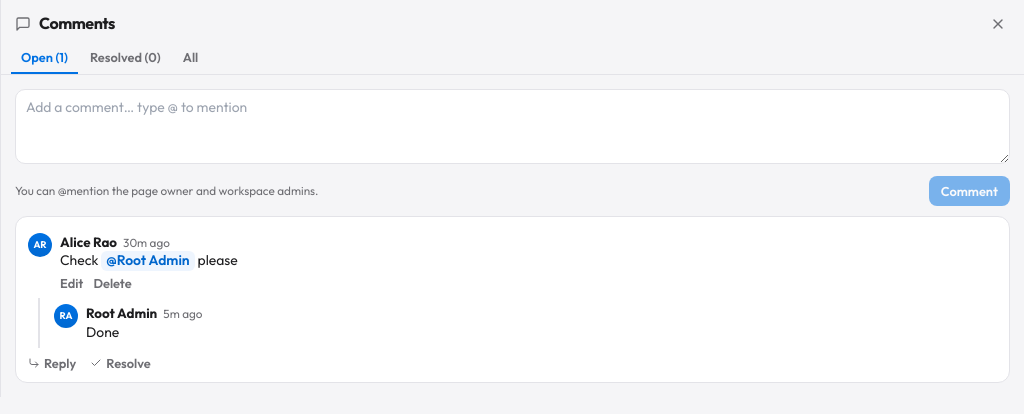
CommentsPanel › resolves a thread
Click the button "Resolve" at (120, 363), box [90,354,151,372]
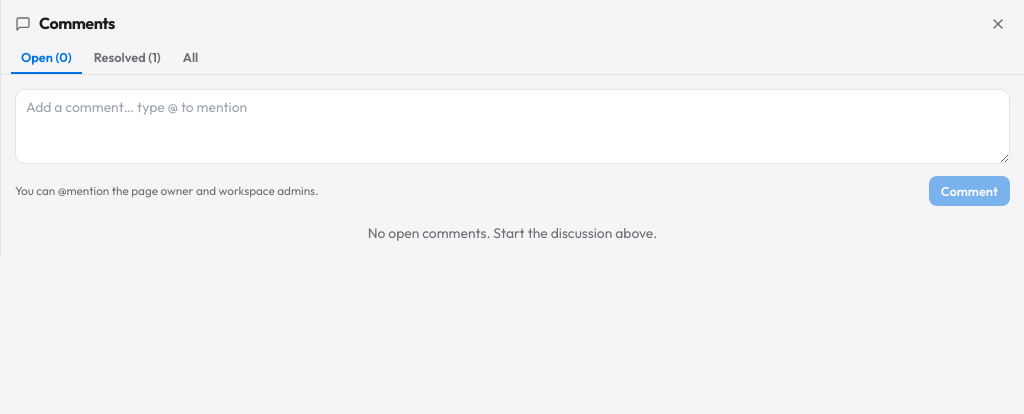
Check: the tab "Resolved (1)" is shown, box [84,42,171,74]
